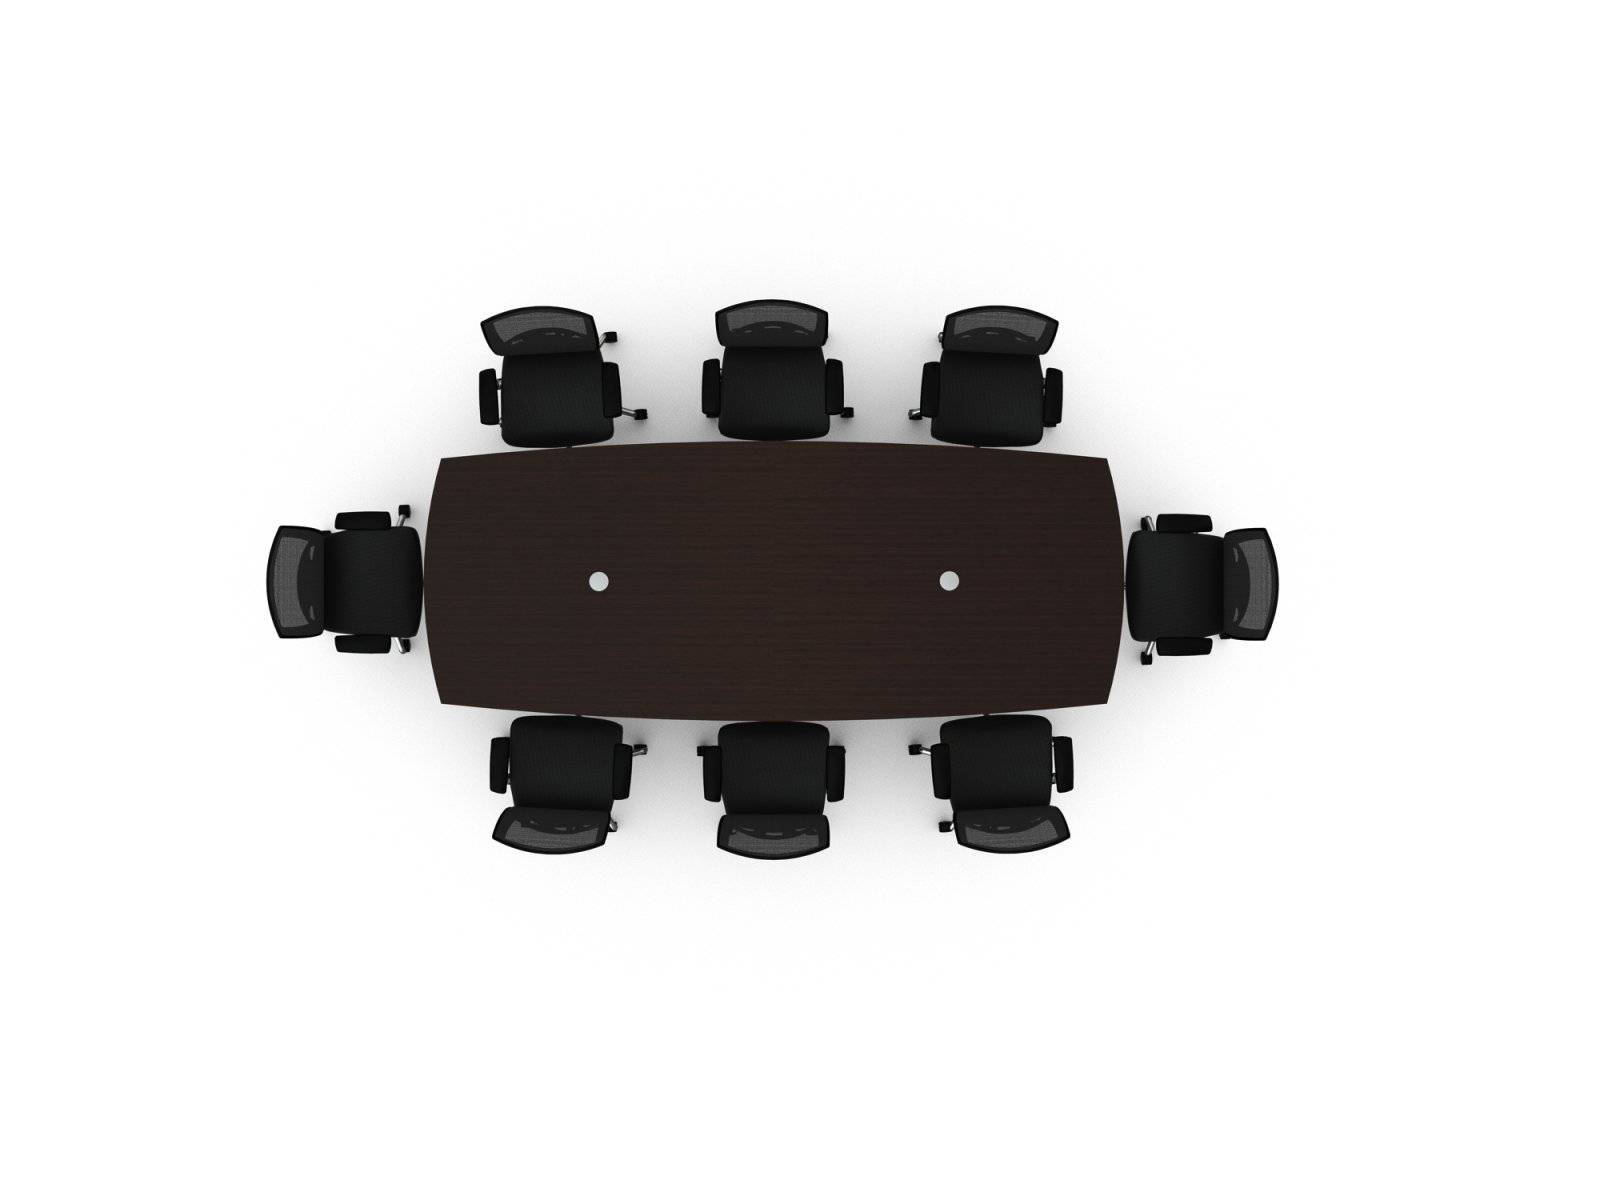conference_table: (426, 443, 1125, 723)
